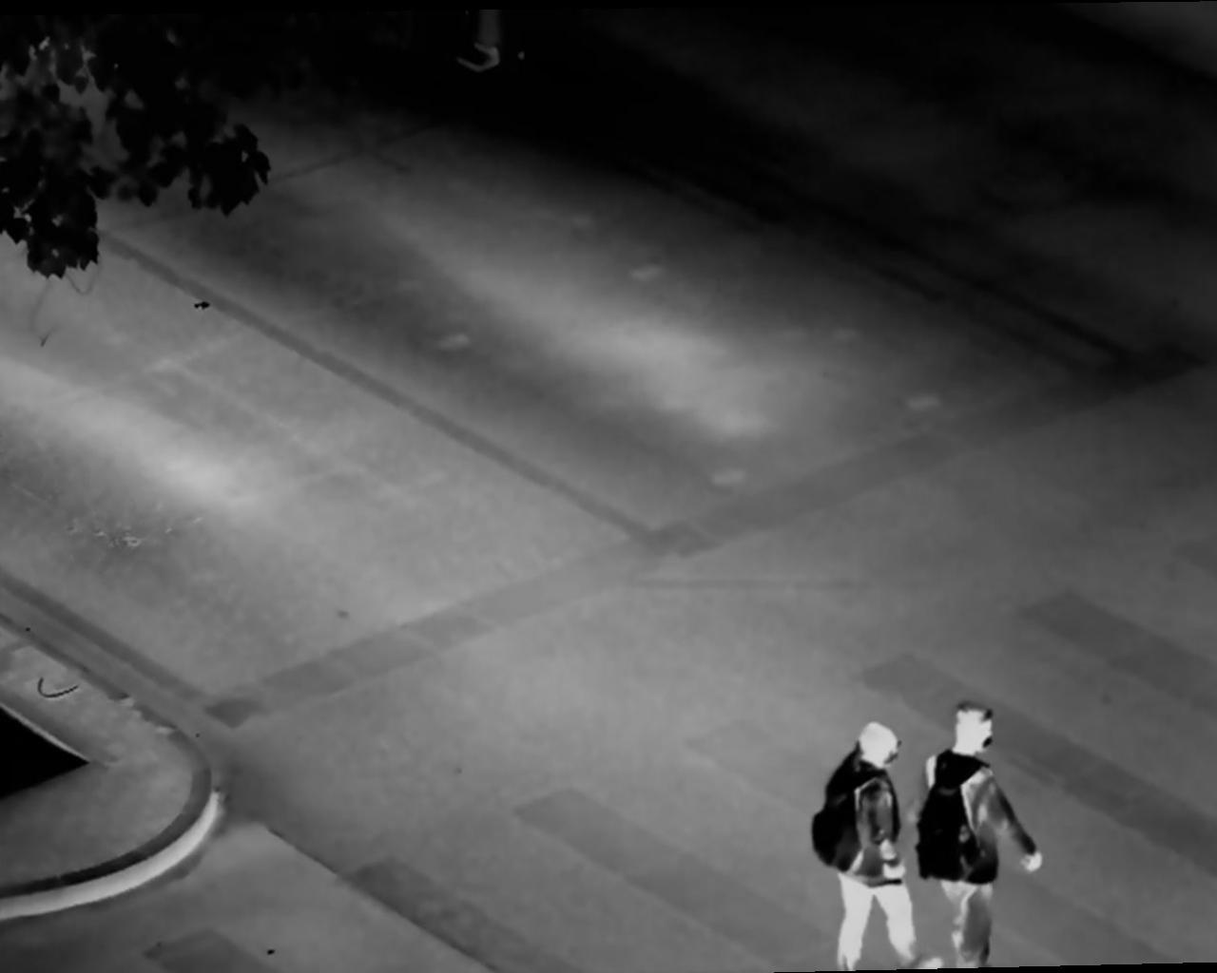person: (916, 693, 1038, 973), (807, 722, 932, 973)
